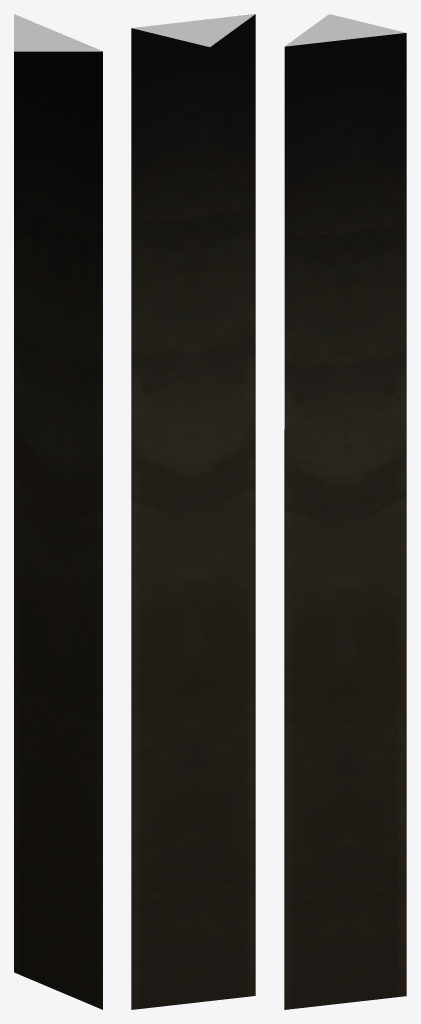
The model's file is fortress_fade_convex_01.fbx.
3 renders of one model, left to right at view 1: azimuth 90°, elevation 25°; view 2: azimuth 150°, elevation 25°; view 3: azimuth 330°, elevation 25°, orthographic. The views are drawn at different scales.
Parts seen in each view (by area): view 1: fortress_fade_convex_01-0; view 2: fortress_fade_convex_01-0; view 3: fortress_fade_convex_01-0.
Boxes of the visible parts, x1=… form: fortress_fade_convex_01-0: x1=14, y1=14, x2=102, y2=1009; fortress_fade_convex_01-0: x1=131, y1=14, x2=255, y2=1009; fortress_fade_convex_01-0: x1=284, y1=14, x2=406, y2=1009.
Size of the model in its own units: 0.4625 by 5.5 by 0.4624.
